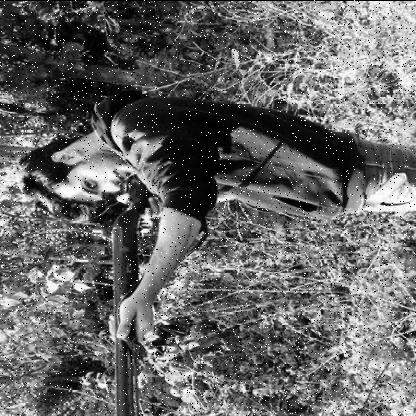rifle: (109, 171, 160, 416)
